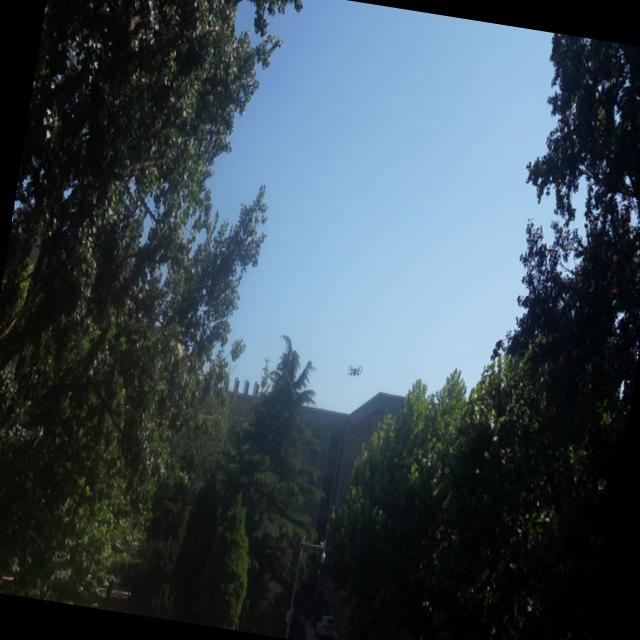drone: (344, 359, 364, 383)
